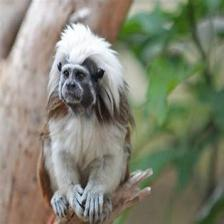monkey: (41, 25, 136, 224)
